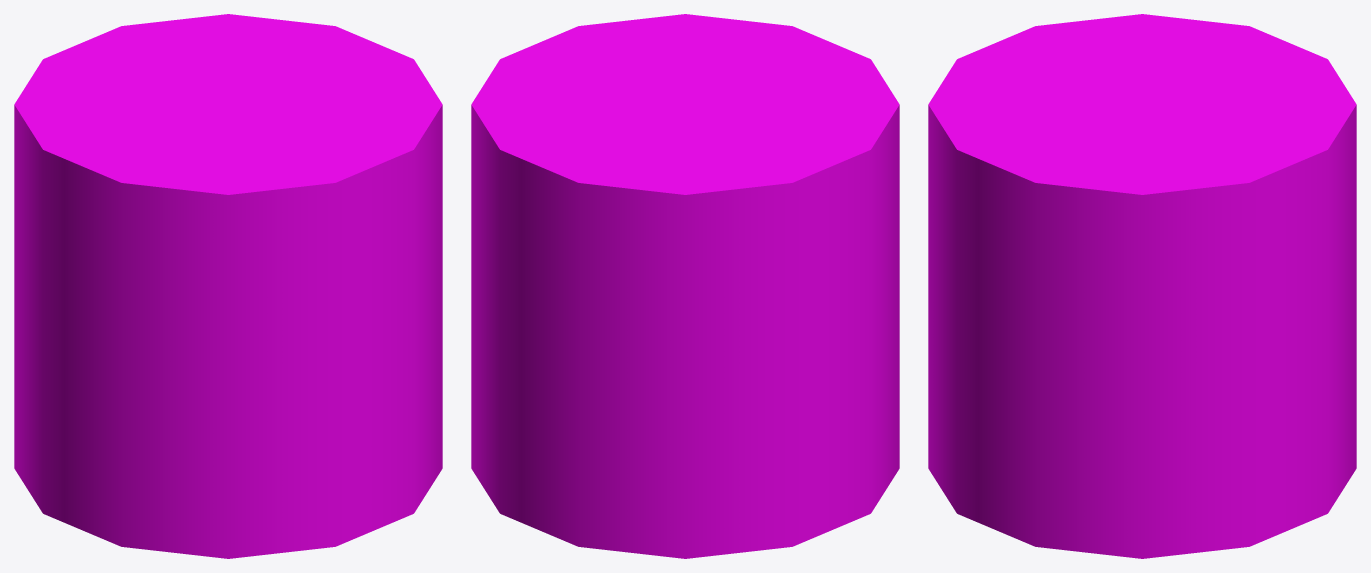
Rendered from grass-fountain.collision.glb.
The picture shows the model from 3 angles, left to right: view 1: azimuth 30°, elevation 25°; view 2: azimuth 150°, elevation 25°; view 3: azimuth 270°, elevation 25°; orthographic projection.
Parts seen in each view (by area): view 1: grass_fountain_collision_collision; view 2: grass_fountain_collision_collision; view 3: grass_fountain_collision_collision.
Part boxes in pixels (x1,y1,x2,y2): grass_fountain_collision_collision: (14,14,442,558); grass_fountain_collision_collision: (471,14,899,558); grass_fountain_collision_collision: (928,14,1356,558).
Bounding box in the file's own units: 0.8 × 0.75 × 0.8.
